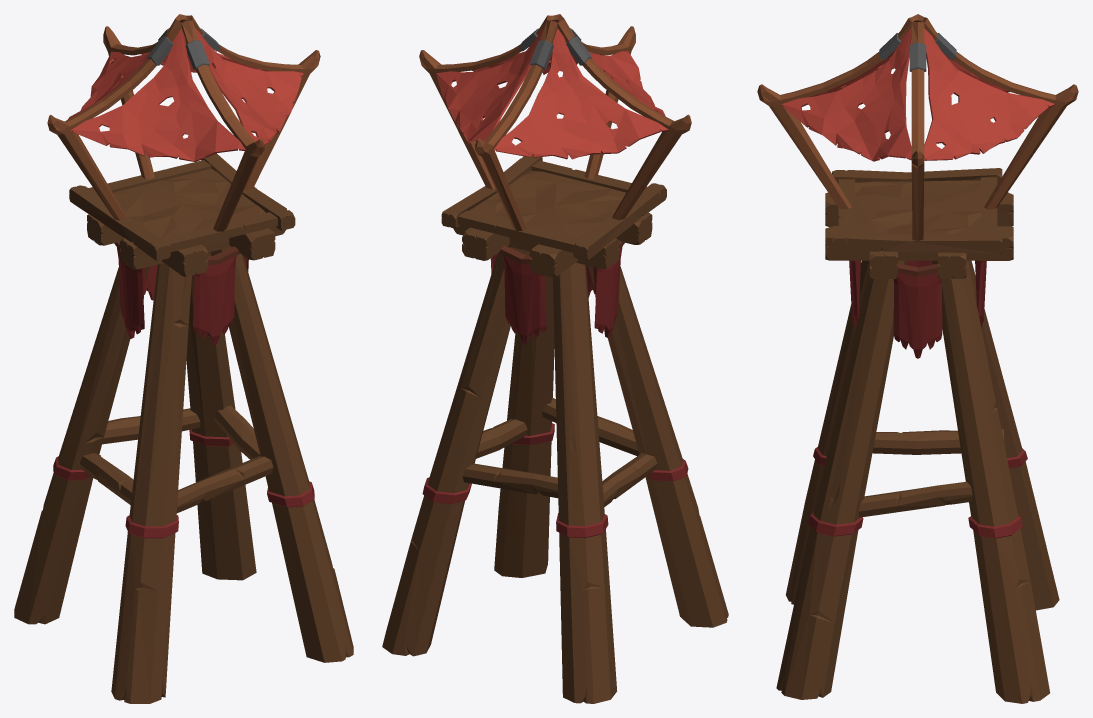
File: OrcTower.fbx
The picture shows the model from 3 angles, left to right: view 1: azimuth 30°, elevation 25°; view 2: azimuth 150°, elevation 25°; view 3: azimuth 270°, elevation 25°; orthographic projection. The views are drawn at different scales.
Parts seen in each view (by area): view 1: OrcTower_LOD0; view 2: OrcTower_LOD0; view 3: OrcTower_LOD0.
Boxes of the visible parts, x1,y1,x2,y2 form: OrcTower_LOD0: (14,14,353,703); OrcTower_LOD0: (382,14,728,703); OrcTower_LOD0: (757,14,1078,703).
Size of what is drawn, in the model's own units: 418 by 898 by 418.
